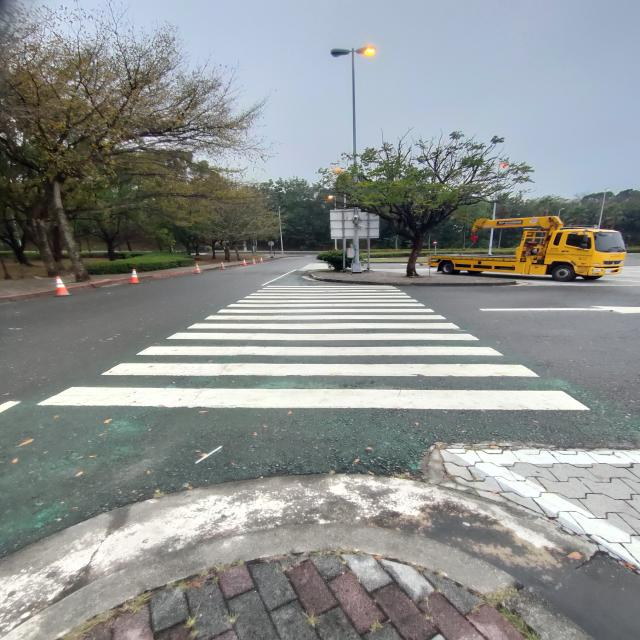zebra_crossing: (134, 146, 399, 429)
